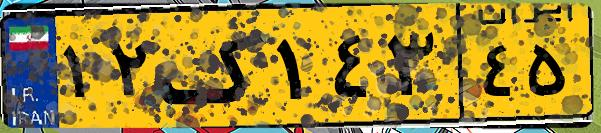1: (270, 28, 330, 110), (57, 26, 110, 100)
2: (110, 28, 158, 98)
3: (385, 28, 445, 110)
4: (330, 28, 385, 110), (475, 38, 525, 113)
5: (525, 38, 570, 115)
ک: (158, 12, 270, 120)
